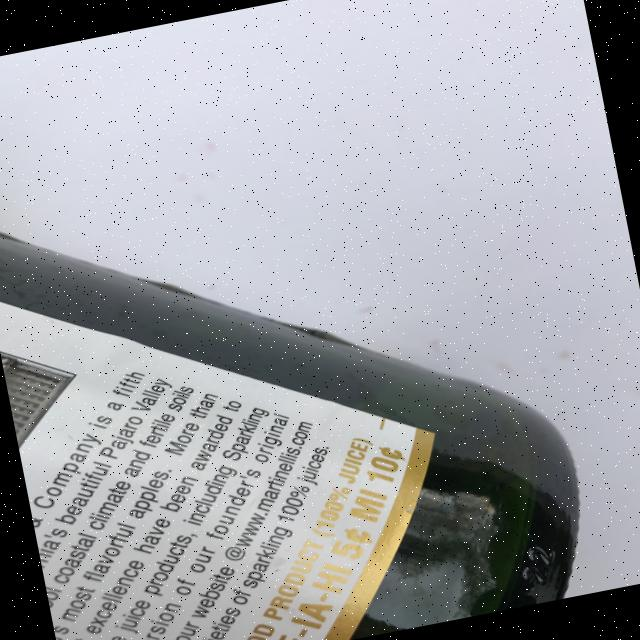glass: (0, 122, 601, 640)
